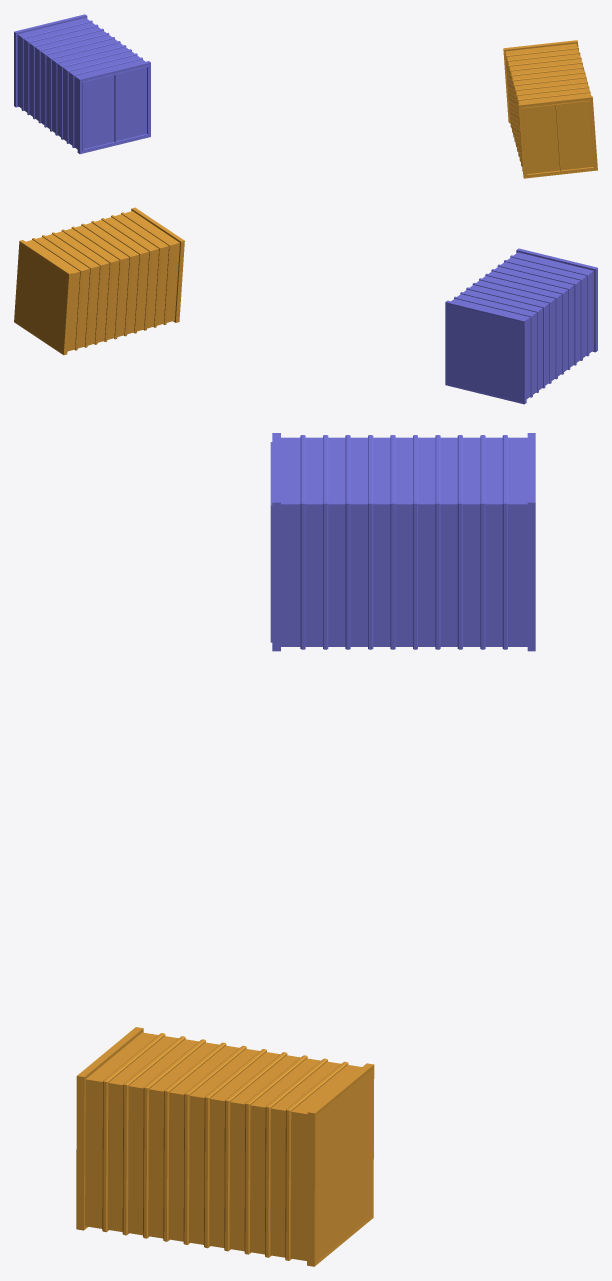
File: contentores.fbx
The picture shows the model from 3 angles, top to bottom: view 1: azimuth 30°, elevation 25°; view 2: azimuth 150°, elevation 25°; view 3: azimuth 270°, elevation 25°; orthographic projection. The views are drawn at different scales.
Visible parts, largest first — view 1: Cube.006, Cube.015; view 2: Cube.015, Cube.006; view 3: Cube.015, Cube.006.
Part boxes in pixels (x1,y1,x2,y2): Cube.006: [14, 14, 150, 154]; Cube.015: [503, 40, 597, 178]; Cube.015: [14, 207, 184, 355]; Cube.006: [445, 248, 597, 404]; Cube.015: [76, 1027, 374, 1266]; Cube.006: [270, 433, 535, 651].
Size of the model in its own units: 860 by 278 by 333.
